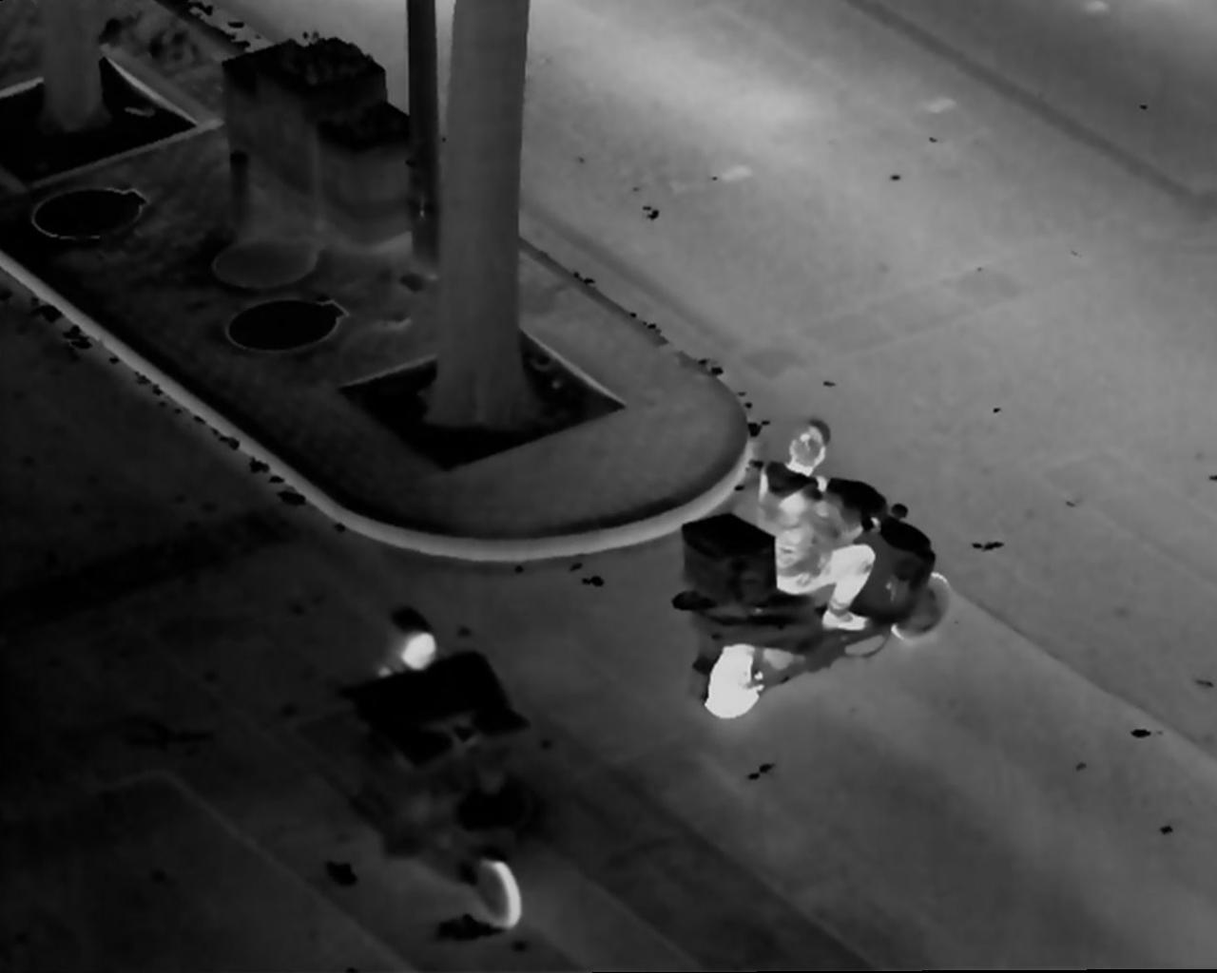person: (349, 606, 499, 824), (757, 418, 892, 631)
